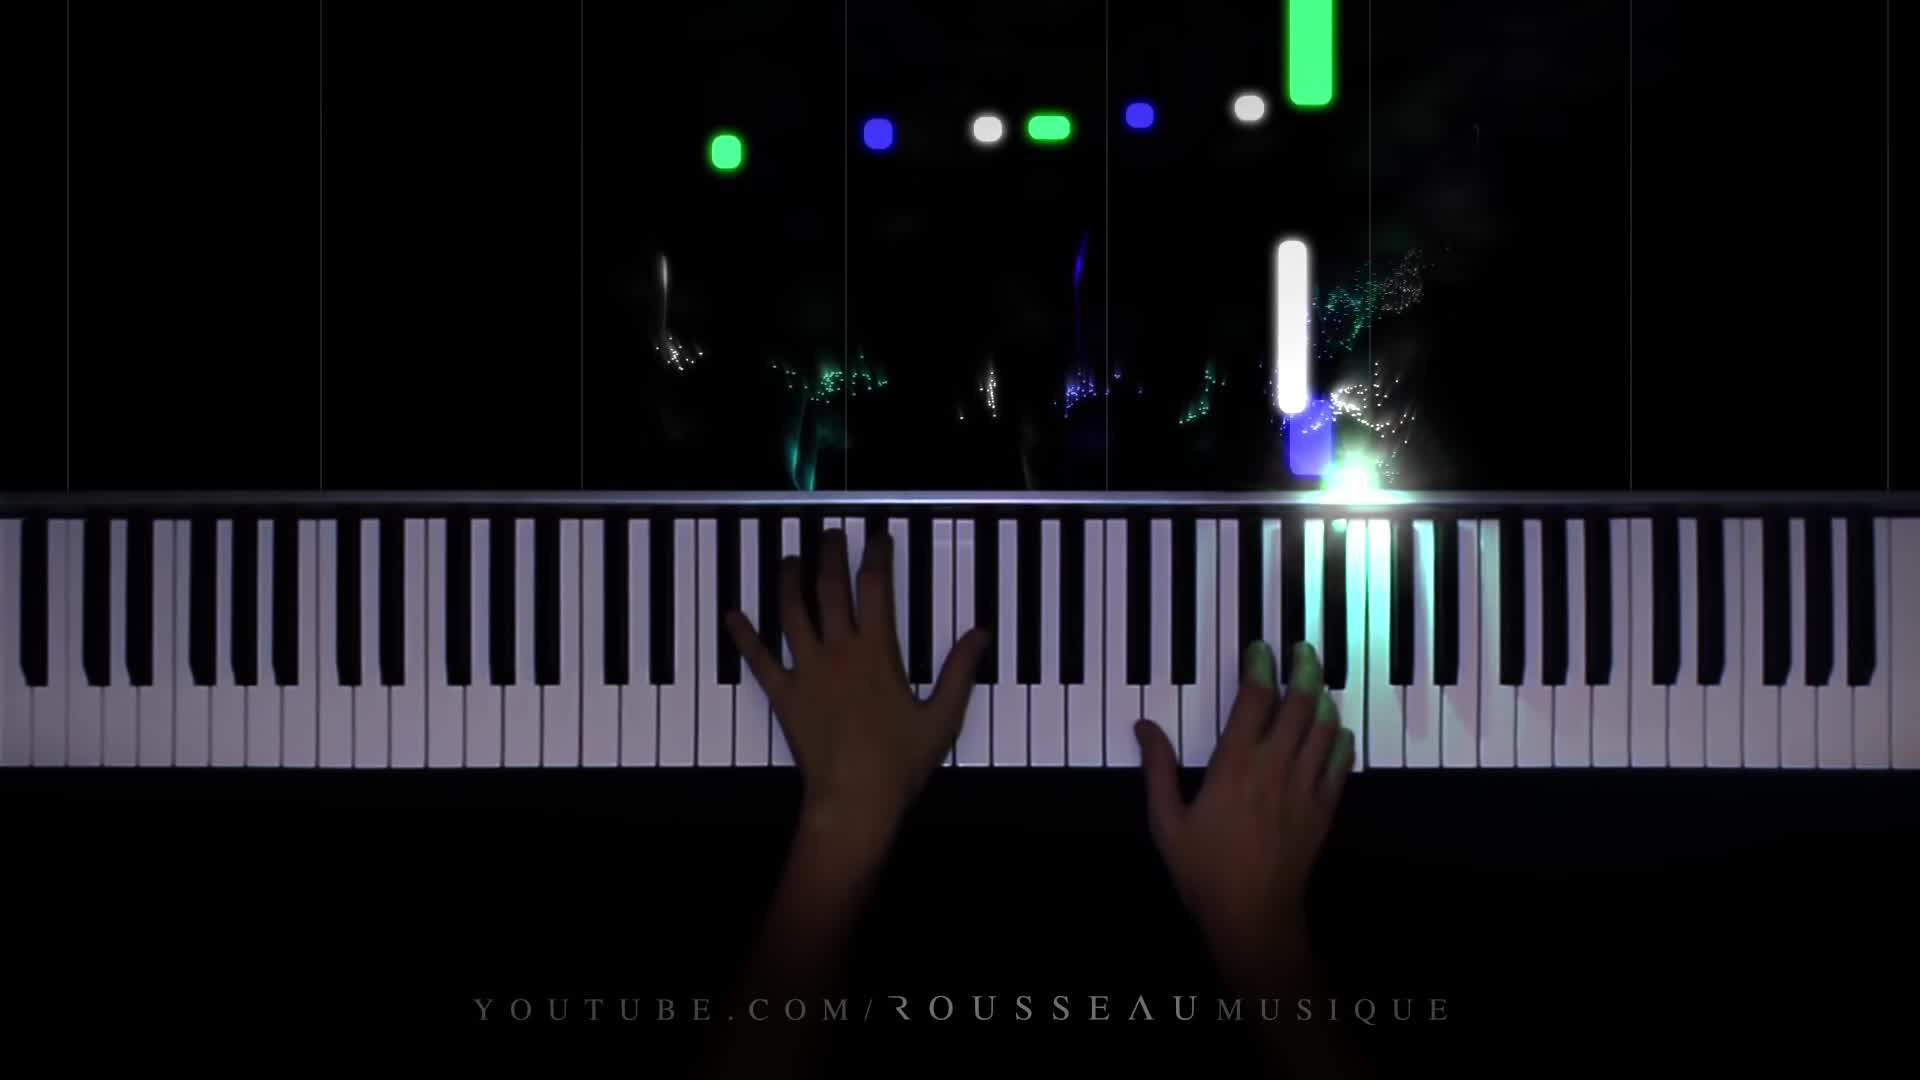left: (727, 527, 986, 829)
right: (1135, 641, 1356, 884)
